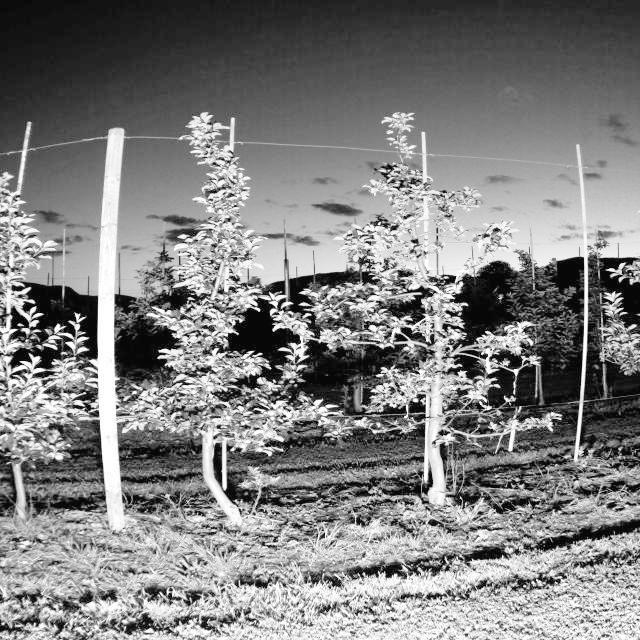Tree: (147, 110, 298, 527), (352, 109, 495, 509), (0, 166, 79, 519)
